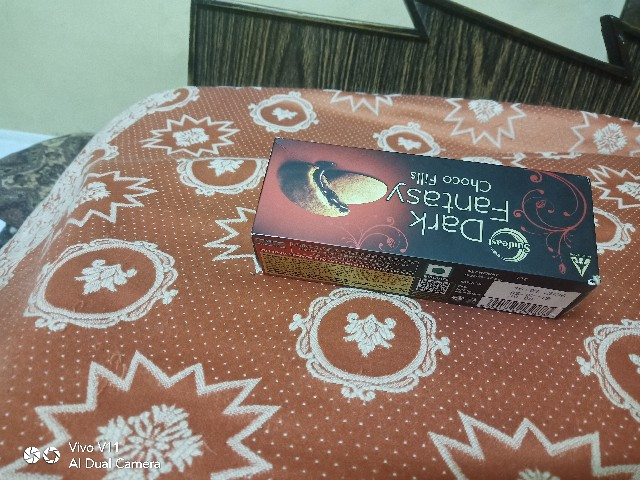darkfantasy big: (245, 116, 607, 326)
